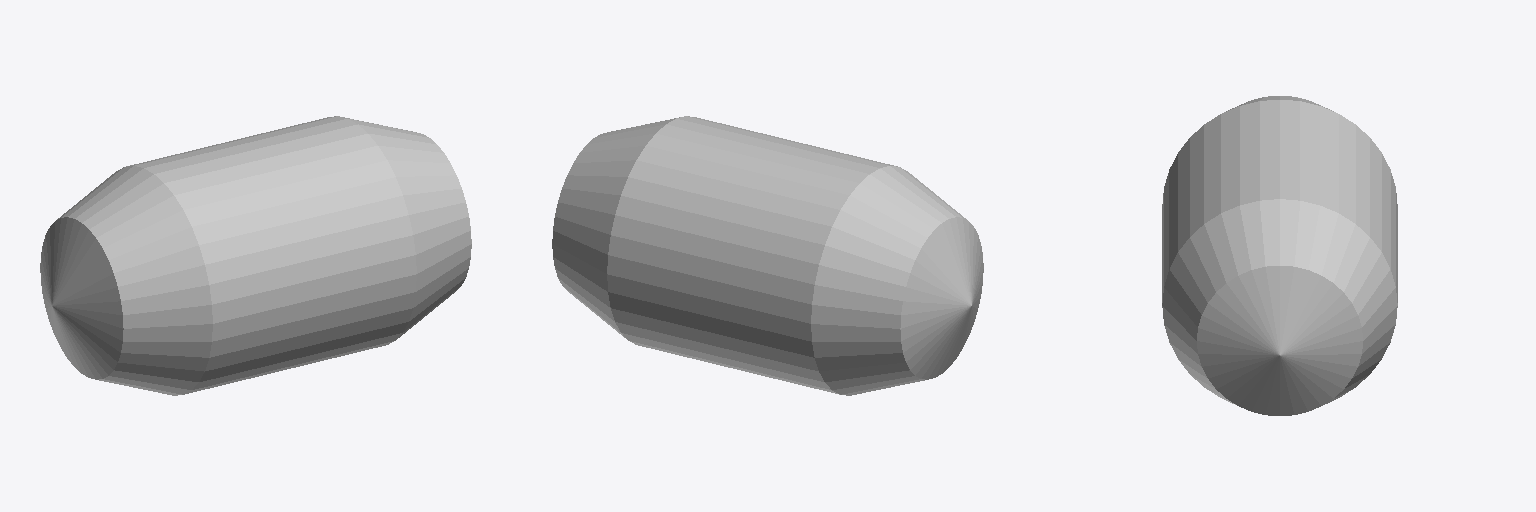
The model's file is bullet1.obj.
3 views of the same model, side by side, from view 1: azimuth 30°, elevation 25°; view 2: azimuth 150°, elevation 25°; view 3: azimuth 270°, elevation 25° (orthographic).
Size of the model in its own units: 200 by 100 by 100.